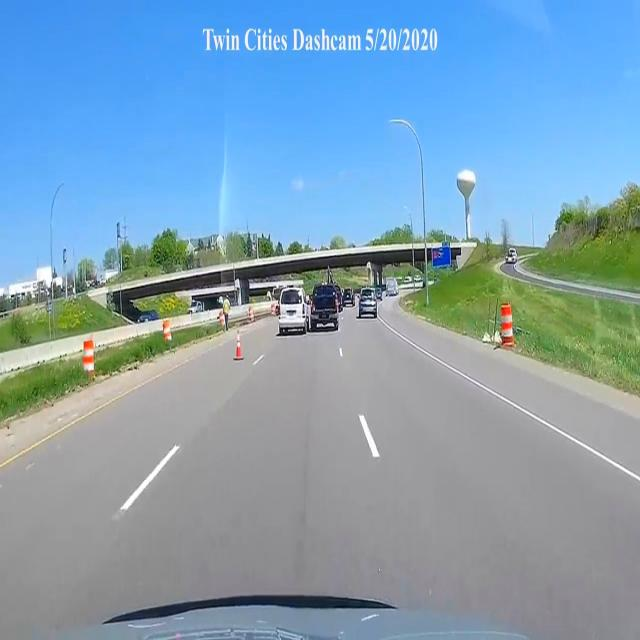cone: (231, 337, 244, 362)
